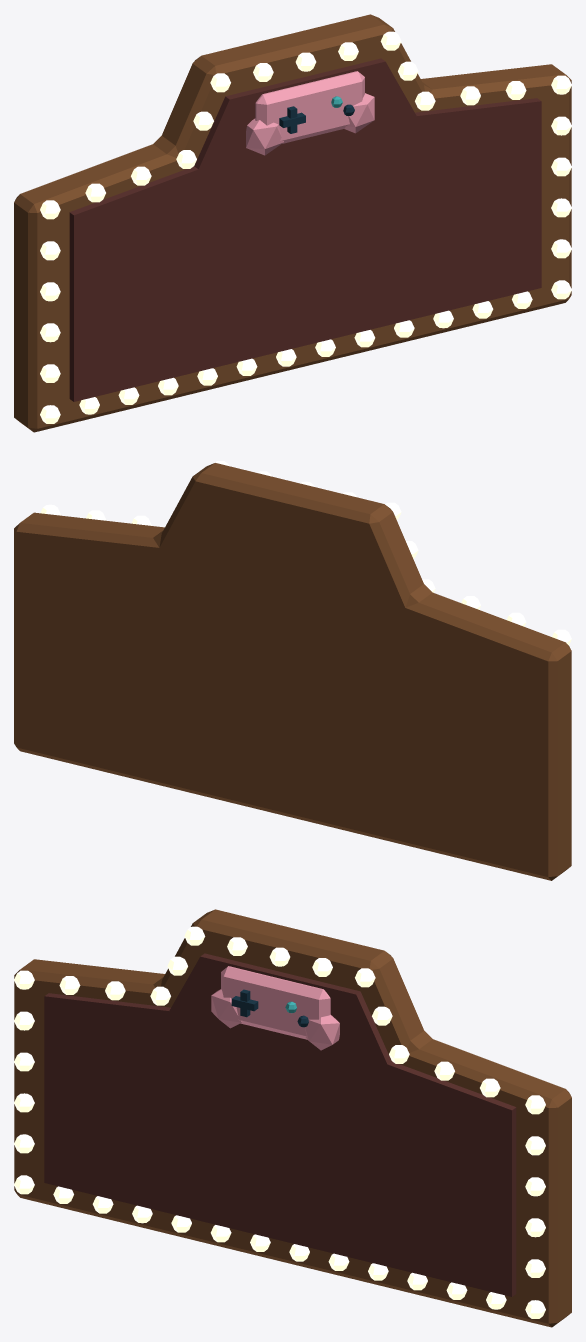
Rendered from arcade_marquee.glb.
The picture shows the model from 3 angles, top to bottom: view 1: azimuth 30°, elevation 25°; view 2: azimuth 150°, elevation 25°; view 3: azimuth 330°, elevation 25°; orthographic projection.
Parts seen in each view (by area): view 1: arcade_marquee; view 2: arcade_marquee; view 3: arcade_marquee.
Part boxes in pixels (x1,y1,x2,y2): arcade_marquee: (14,14,571,432); arcade_marquee: (14,461,571,880); arcade_marquee: (14,909,571,1327).
Size of the model in its own units: 1.8 by 1.02 by 0.209.
